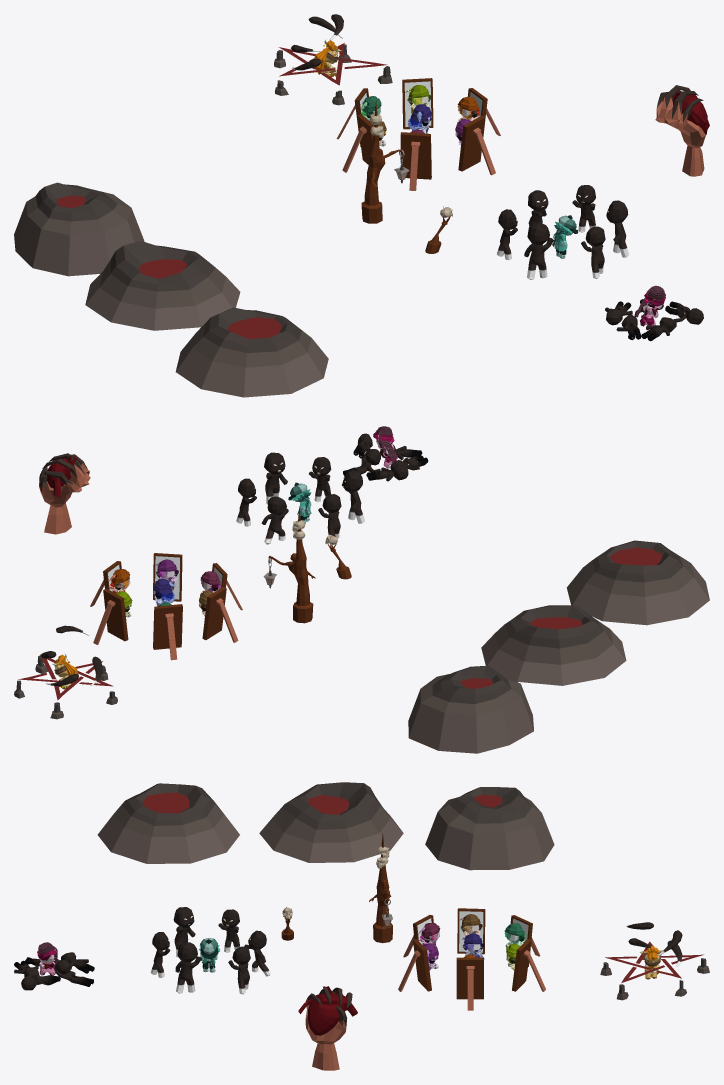
File: helladdonshearthandssplit.fbx
3 views of the same model, one above another, from view 1: azimuth 30°, elevation 25°; view 2: azimuth 150°, elevation 25°; view 3: azimuth 270°, elevation 25° (orthographic). The views are drawn at different scales.
Parts seen in each view (by area): view 1: Chemney_2, Chemney_3, Chemney_1, Lunacy_nightmare, Despair_nightmare, Devil_hand, Damned_streetlamp, Illusion_nightmare.005, Corruption_nightmare.003, Illusion_nightmare.002, Illusion_nightmare.006, Illusion_nightmare.001 (+4 smaller); view 2: Chemney_2, Chemney_3, Chemney_1, Lunacy_nightmare, Despair_nightmare, Devil_hand, Damned_streetlamp, Illusion_nightmare.002, Illusion_nightmare.003, Illusion_nightmare.005, Corruption_nightmare.003, Illusion_nightmare.006 (+5 smaller); view 3: Chemney_1, Chemney_3, Chemney_2, Lunacy_nightmare, Despair_nightmare, Devil_hand, Damned_streetlamp, Devil_hand.001, Illusion_nightmare.002, Corruption_nightmare.003, Illusion_nightmare.005, Illusion_nightmare.001 (+6 smaller).
Boxes of the visible parts, <box> form: Chemney_2: <box>175,307,328,397</box>; Chemney_3: <box>85,241,240,330</box>; Chemney_1: <box>14,182,144,276</box>; Lunacy_nightmare: <box>336,78,500,190</box>; Despair_nightmare: <box>605,285,703,341</box>; Devil_hand: <box>655,85,705,176</box>; Damned_streetlamp: <box>361,100,409,223</box>; Illusion_nightmare.005: <box>524,223,553,279</box>; Corruption_nightmare.003: <box>278,43,387,85</box>; Illusion_nightmare.002: <box>606,200,629,257</box>; Illusion_nightmare.006: <box>581,226,605,278</box>; Illusion_nightmare.001: <box>572,185,596,232</box>; Chemney_2: <box>566,540,709,625</box>; Chemney_3: <box>481,605,626,685</box>; Chemney_1: <box>408,665,533,753</box>; Lunacy_nightmare: <box>90,553,242,660</box>; Despair_nightmare: <box>343,426,428,481</box>; Devil_hand: <box>39,453,90,534</box>; Damned_streetlamp: <box>263,506,315,623</box>; Illusion_nightmare.002: <box>264,452,287,504</box>; Illusion_nightmare.003: <box>261,496,288,544</box>; Illusion_nightmare.005: <box>342,470,364,523</box>; Corruption_nightmare.003: <box>18,654,113,700</box>; Illusion_nightmare.006: <box>309,457,331,502</box>; Chemney_1: <box>425,787,554,870</box>; Chemney_3: <box>259,782,403,862</box>; Chemney_2: <box>97,783,239,863</box>; Lunacy_nightmare: <box>398,908,545,1010</box>; Despair_nightmare: <box>14,942,94,990</box>; Devil_hand: <box>305,987,352,1070</box>; Damned_streetlamp: <box>369,833,392,943</box>; Devil_hand.001: <box>298,986,357,1035</box>; Illusion_nightmare.002: <box>175,942,201,993</box>; Corruption_nightmare.003: <box>605,941,703,982</box>; Illusion_nightmare.005: <box>173,907,195,957</box>; Illusion_nightmare.001: <box>228,946,250,994</box>.
Bounding box in the file's own units: 5923 × 1232 × 6492.
